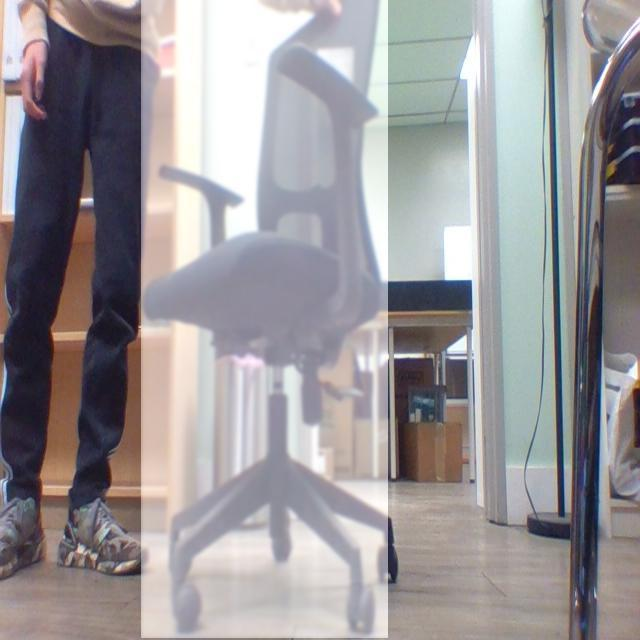chair: (146, 0, 394, 640)
